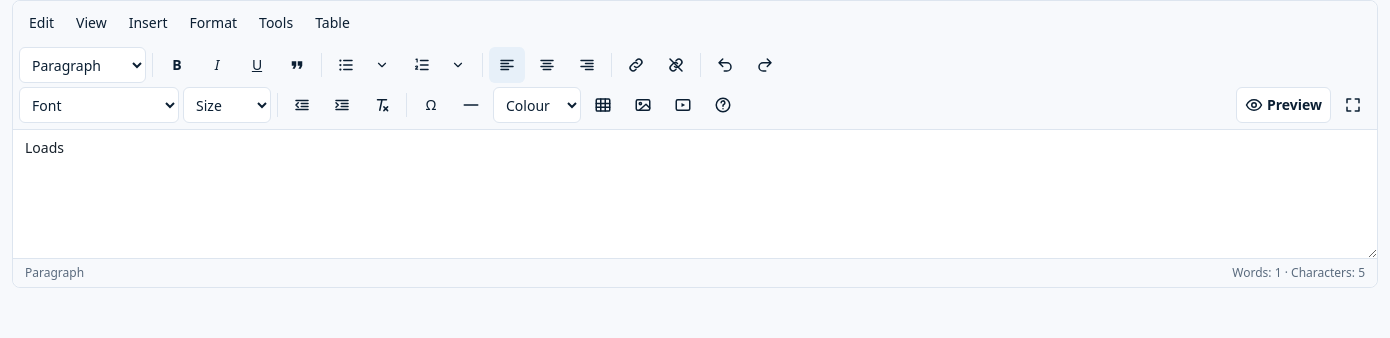
Test: MarkdownTextarea blocks › warns that the page title is already the H1
The width and height of the screenshot is (1390, 338).
Step 1. Select "Heading 1" in the dropdown named "Block format" → (82, 65), box [19,47,146,83]
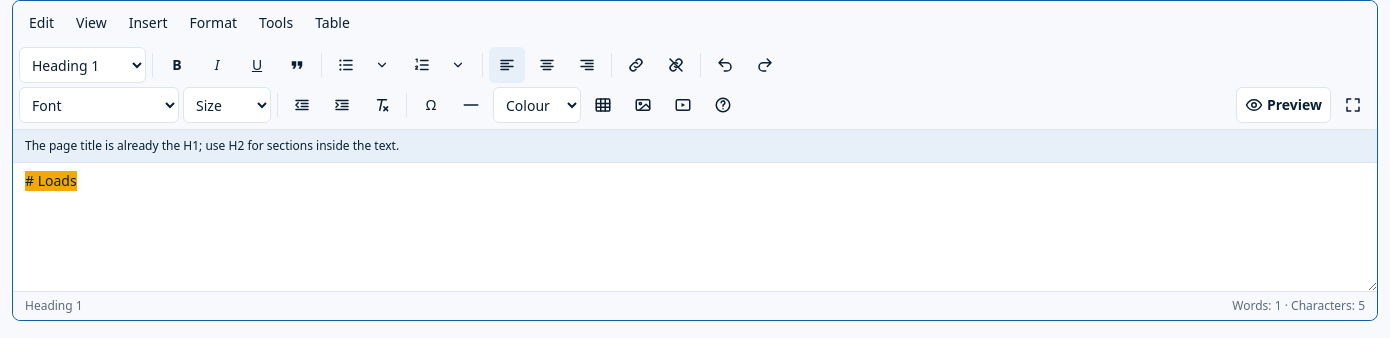
Now the message shows "page title is already the H1", box [25,137,399,154]
